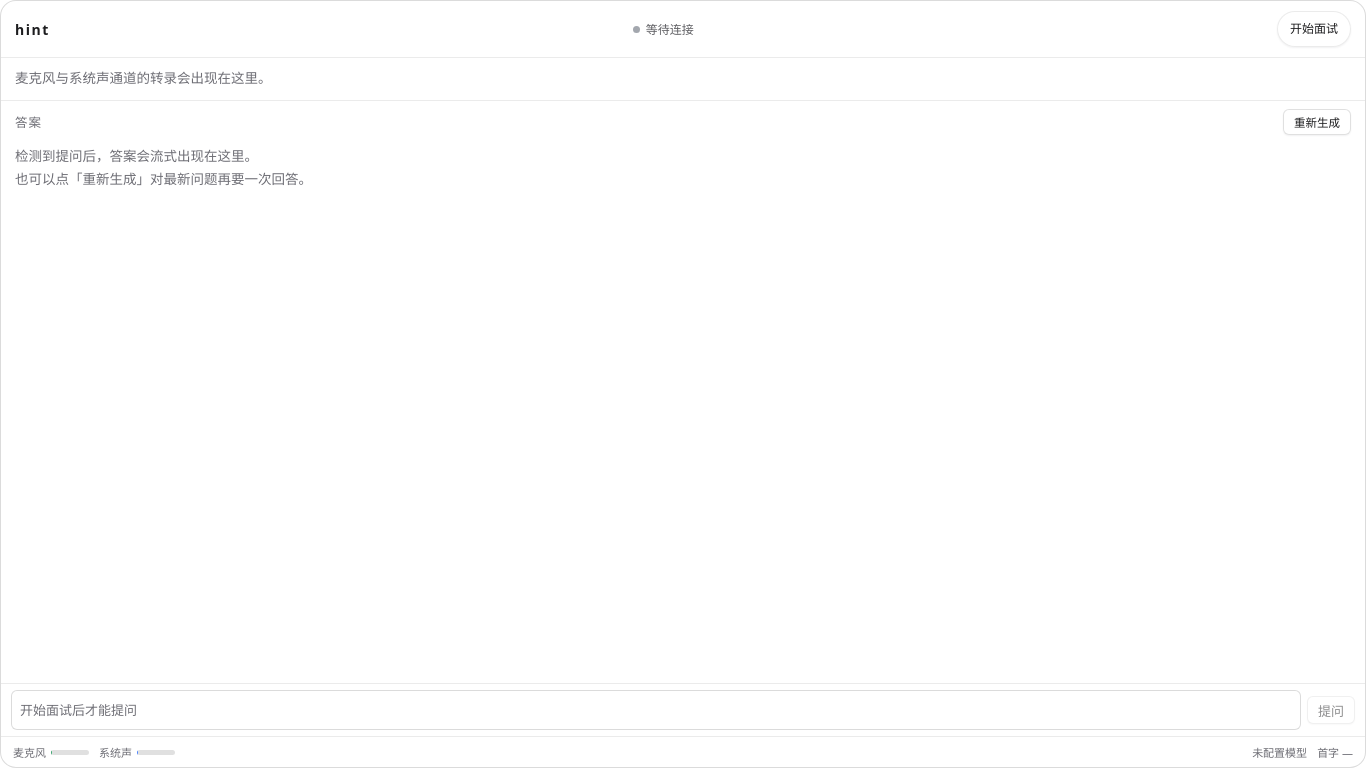
Test: Overlay —— 重新生成与清空 › 点「重新生成」调 regenerate_answer 并切到流式
Click the button "重新生成". click: (1317, 122)
box: x1=1283 y1=109 x2=1351 y2=135
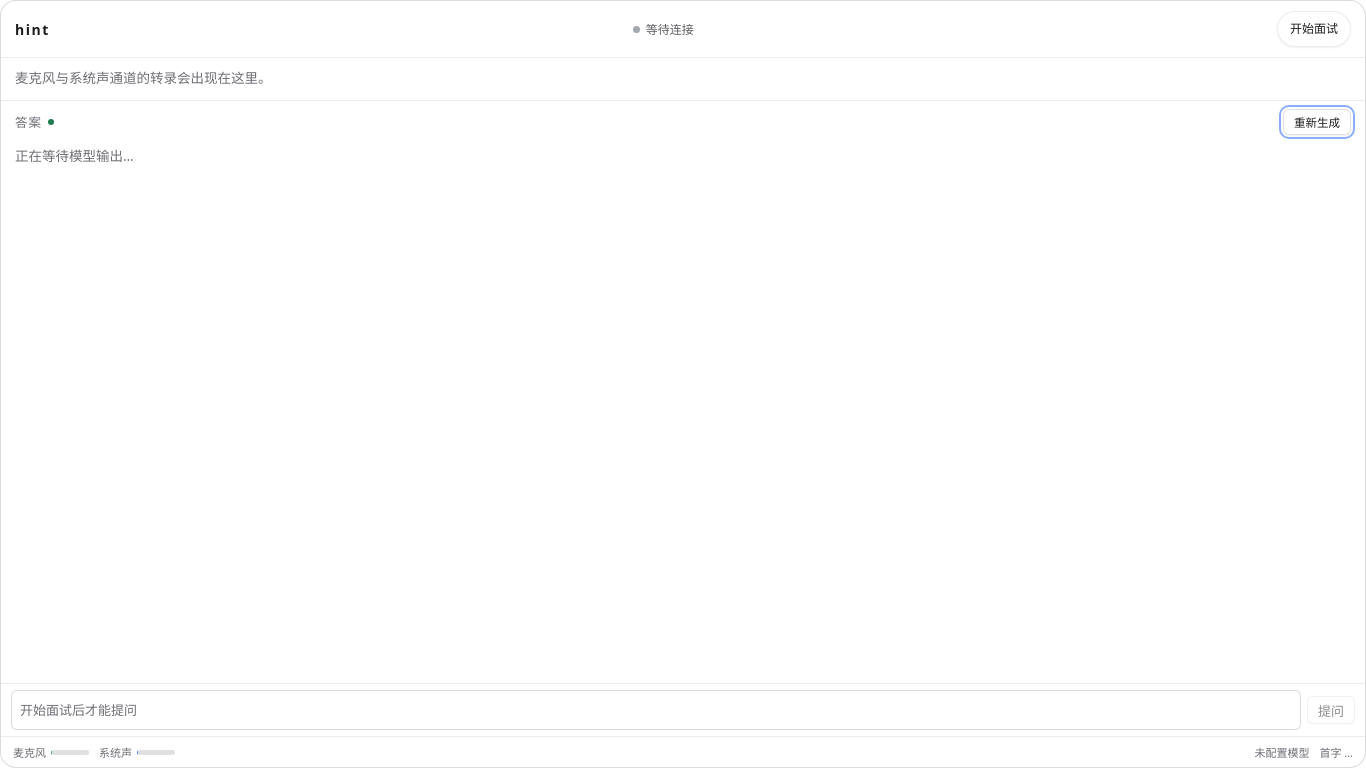
Expected: the text "正在等待模型输出…" is shown, x1=15 y1=147 x2=134 y2=165
